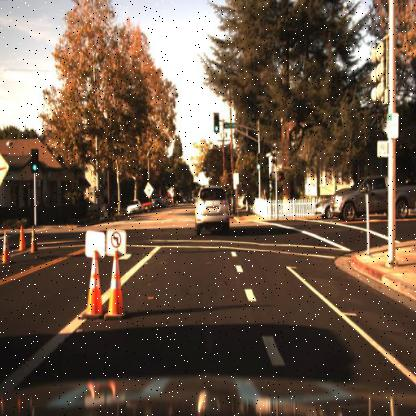car: (330, 174, 416, 218), (194, 184, 232, 233), (313, 187, 338, 223), (314, 194, 330, 215), (138, 193, 152, 214), (125, 198, 141, 216), (127, 197, 142, 216)
trafficLight-Green: (28, 149, 39, 178), (213, 112, 220, 136), (255, 150, 263, 171), (256, 159, 261, 175)
